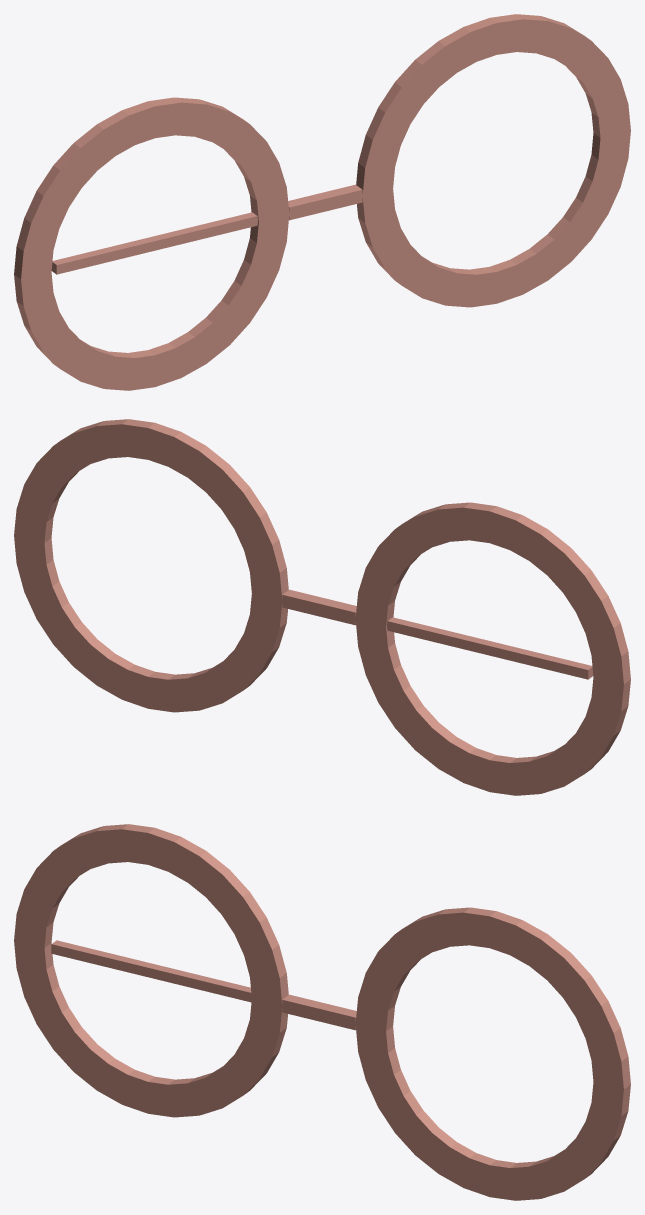
Rendered from vireo-corail.glb.
3 views of the same model, one above another, from view 1: azimuth 30°, elevation 25°; view 2: azimuth 150°, elevation 25°; view 3: azimuth 330°, elevation 25° (orthographic).
Visible parts, largest first — view 1: geometry_0; view 2: geometry_0; view 3: geometry_0.
Part boxes in pixels (bbox=[...]): geometry_0: bbox=[14, 14, 630, 390]; geometry_0: bbox=[14, 419, 630, 795]; geometry_0: bbox=[14, 824, 630, 1200].
Size of the model in its own units: 1 by 0.44 by 0.02.
